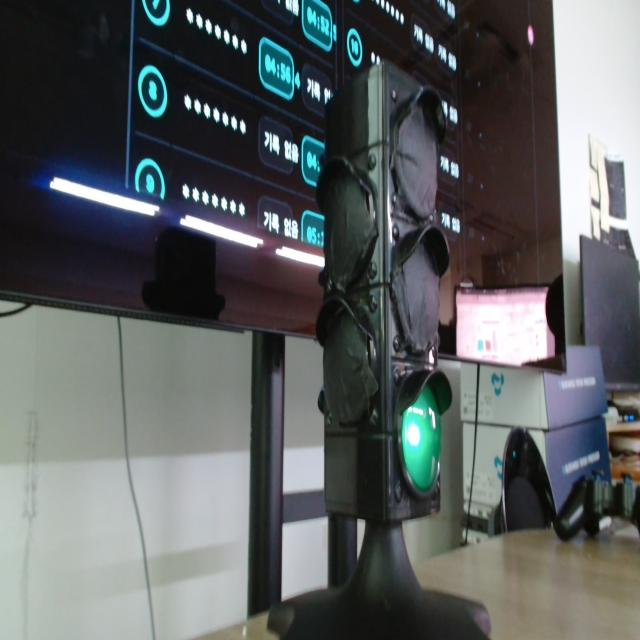green_light: (402, 387, 441, 493)
